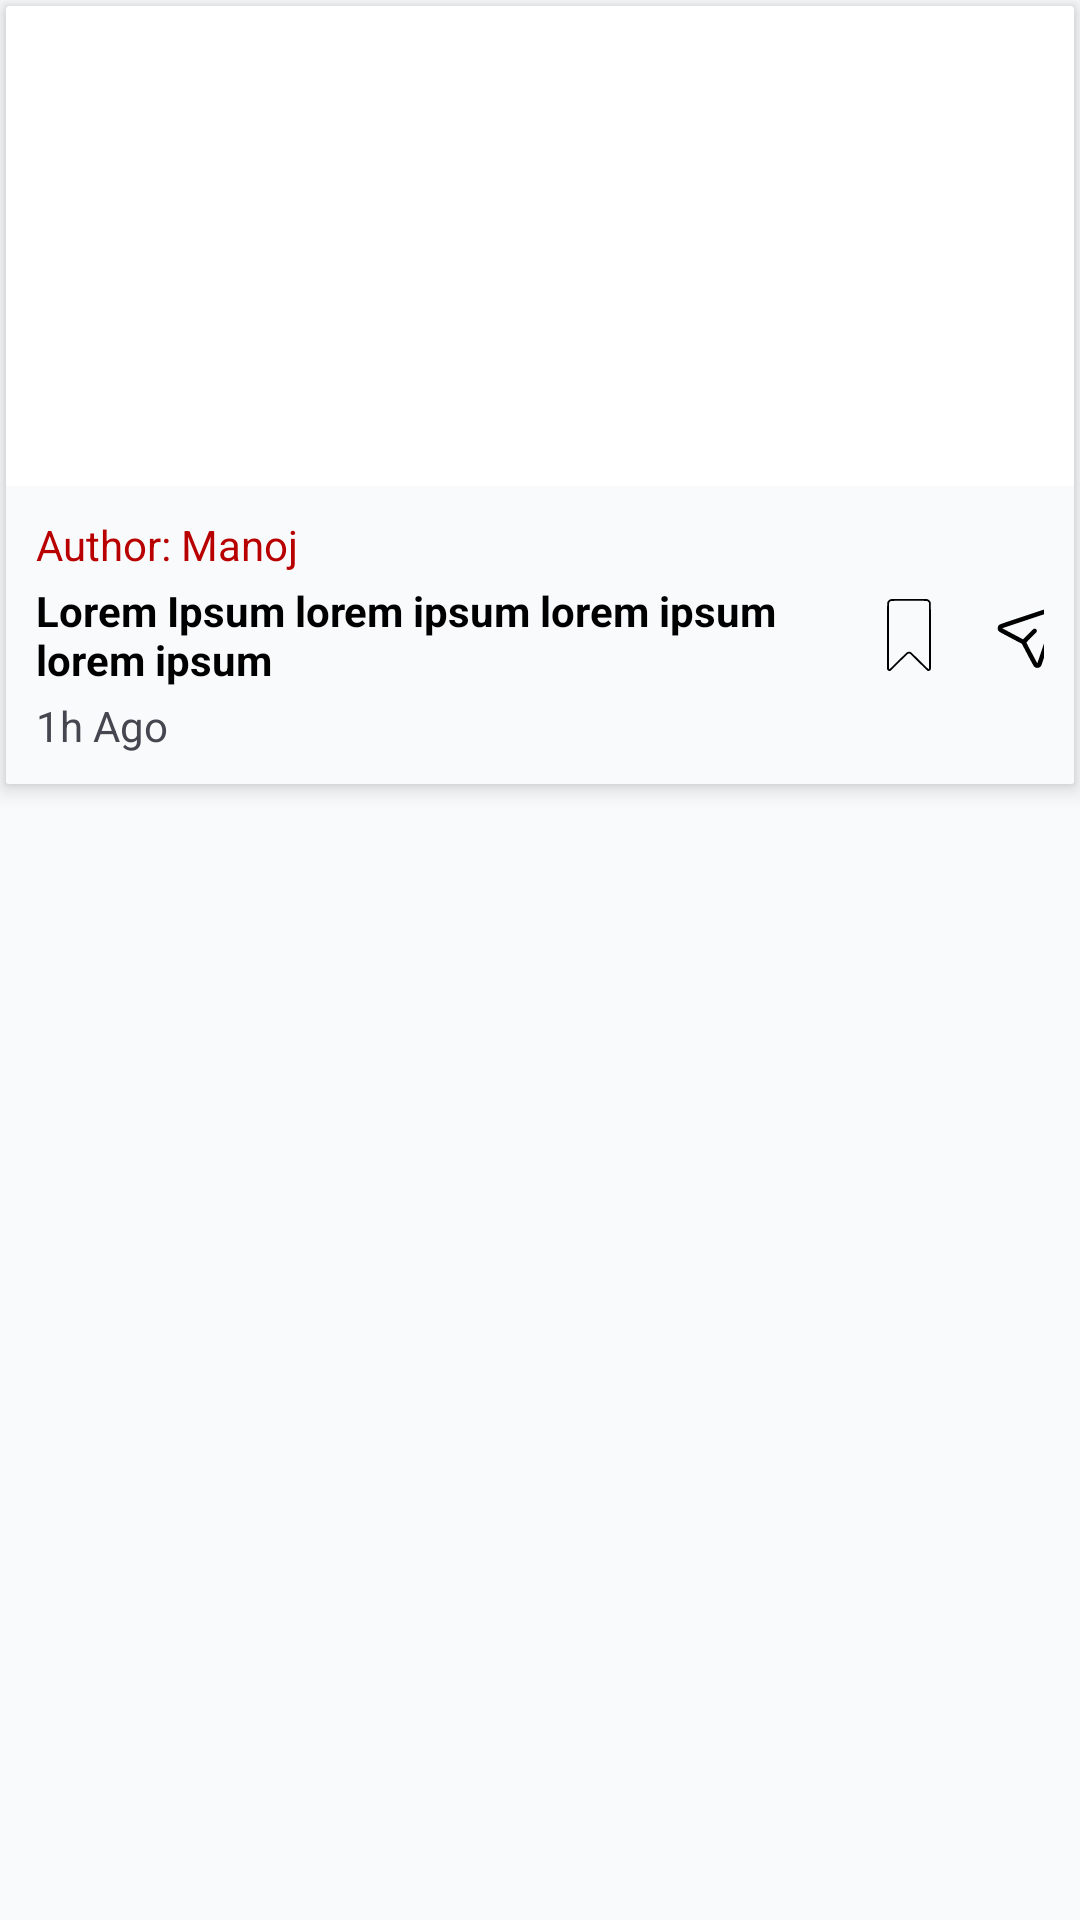

Icons on this 1080 × 1920 Android screen, each with the point to tap as point (x, y):
bookmark: point (909, 635)
